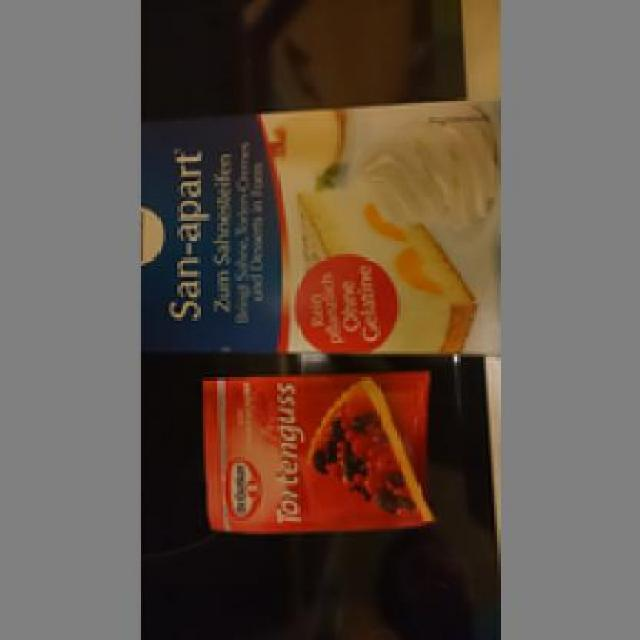Cake: (137, 109, 497, 348), (192, 372, 438, 528)
